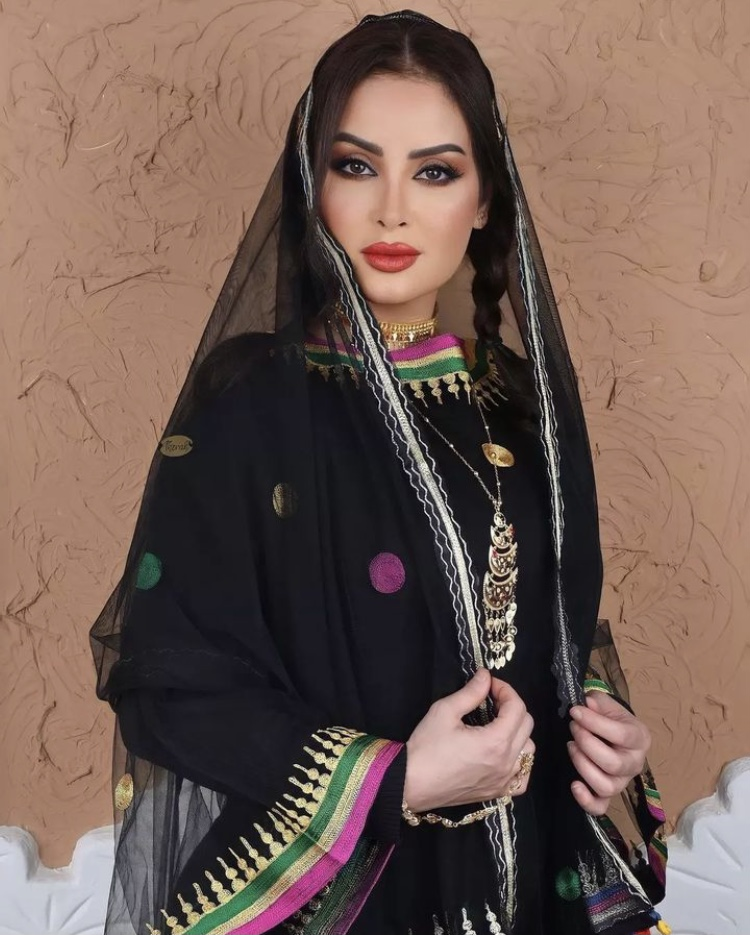Saudi_Founding_Day: (88, 10, 671, 935)
